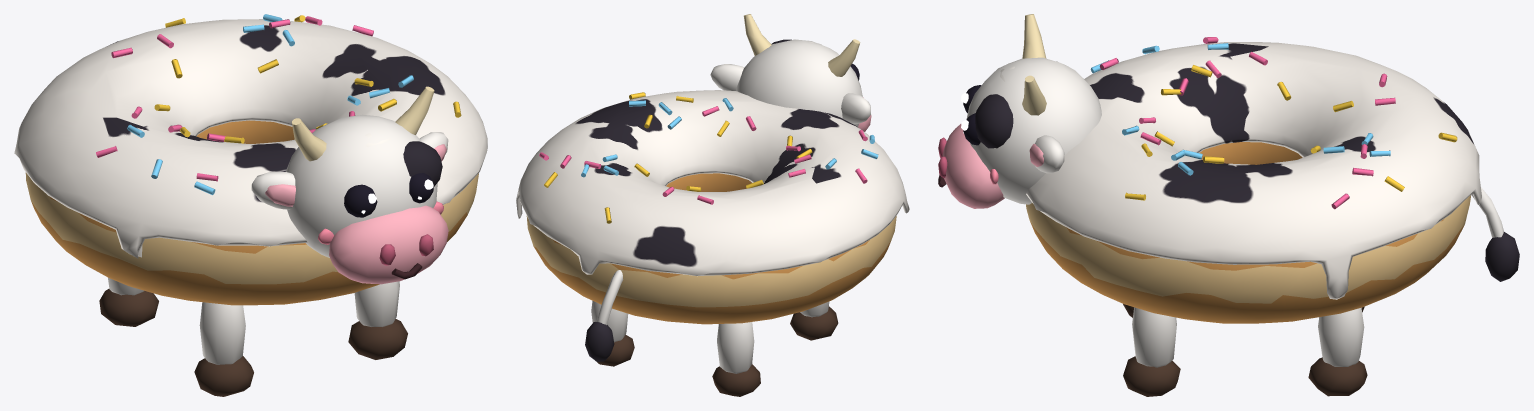
File: donutku_lav.glb
3 renders of one model, left to right at view 1: azimuth 30°, elevation 25°; view 2: azimuth 150°, elevation 25°; view 3: azimuth 270°, elevation 25°, orthographic. The views are drawn at different scales.
Parts seen in each view (by area): view 1: kropp, hode, bein_vf, bein_hf, bein_vb; view 2: kropp, hode, bein_vb, hale, bein_vf, bein_hb; view 3: kropp, hode, bein_hb, bein_hf, hale.
Part boxes in pixels (box(x1,y1,x2,y2)): kropp: box(14, 14, 487, 305); hode: box(251, 86, 448, 284); bein_vf: box(194, 302, 253, 396); bein_hf: box(348, 281, 407, 359); bein_vb: box(99, 277, 158, 326); kropp: box(516, 90, 909, 324); hode: box(710, 14, 871, 131); bein_vb: box(712, 322, 760, 396); hale: box(585, 270, 623, 361); bein_vf: box(790, 301, 838, 340); bein_hb: box(591, 300, 634, 366); kropp: box(1026, 37, 1481, 323); hode: box(938, 14, 1101, 208); bein_hb: box(1308, 307, 1367, 396); bein_hf: box(1123, 307, 1180, 396); hale: box(1472, 187, 1519, 281).
Bounding box in the file's own units: 1.59 × 1.18 × 1.99.
17 materials, 1 textured.
